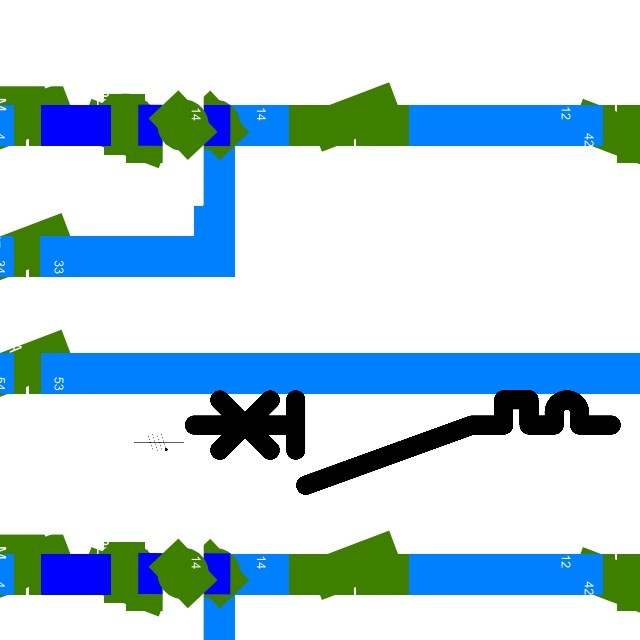interruptor_termomagnetico: (183, 389, 622, 496)
